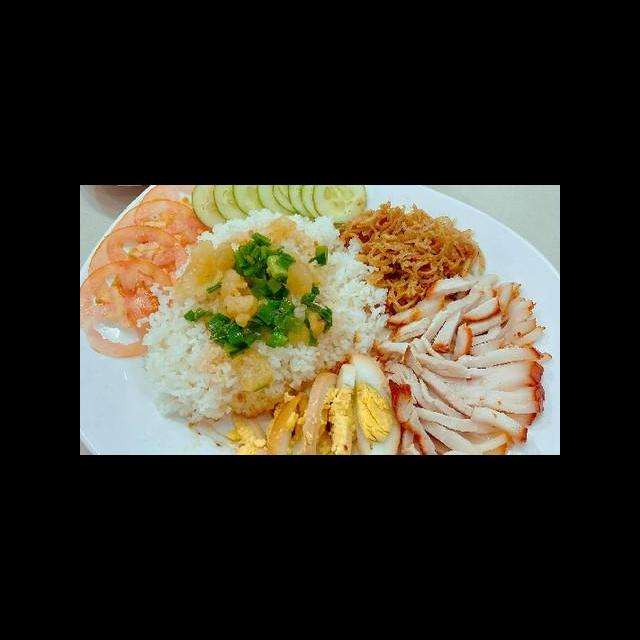bi: (336, 198, 487, 316)
com: (134, 206, 396, 429)
com suon bi trung: (82, 197, 560, 454)
suon: (373, 272, 554, 455)
trung: (223, 353, 405, 455)
